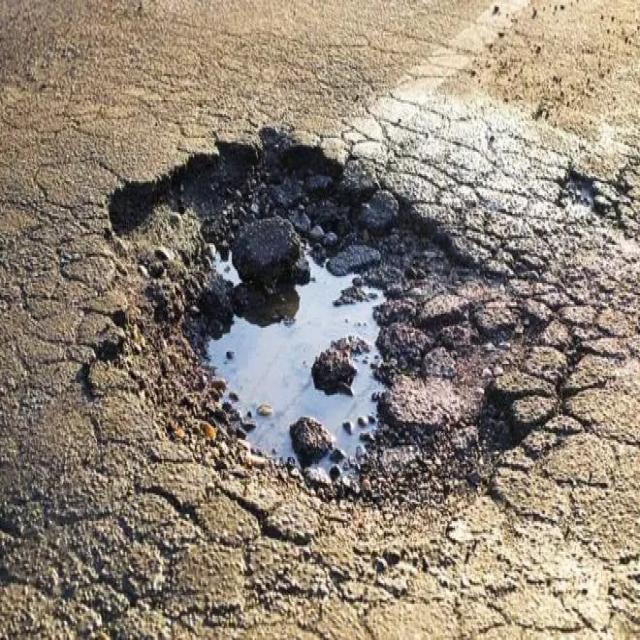Pothole: (107, 138, 534, 505)
